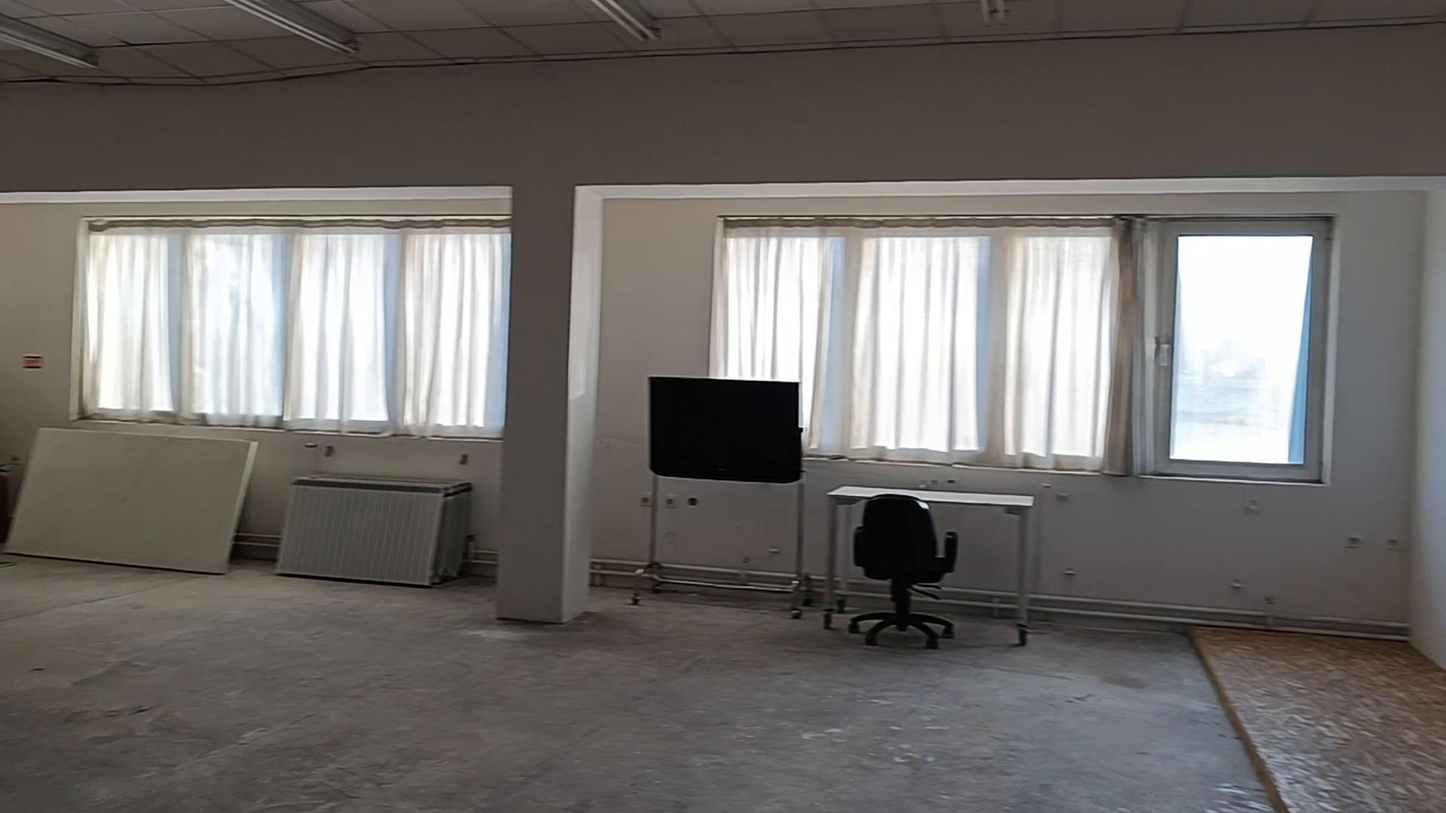ceiling: (0, 0, 1445, 84)
floor: (0, 560, 1445, 812)
wall: (1, 29, 1445, 664), (496, 184, 603, 623)
